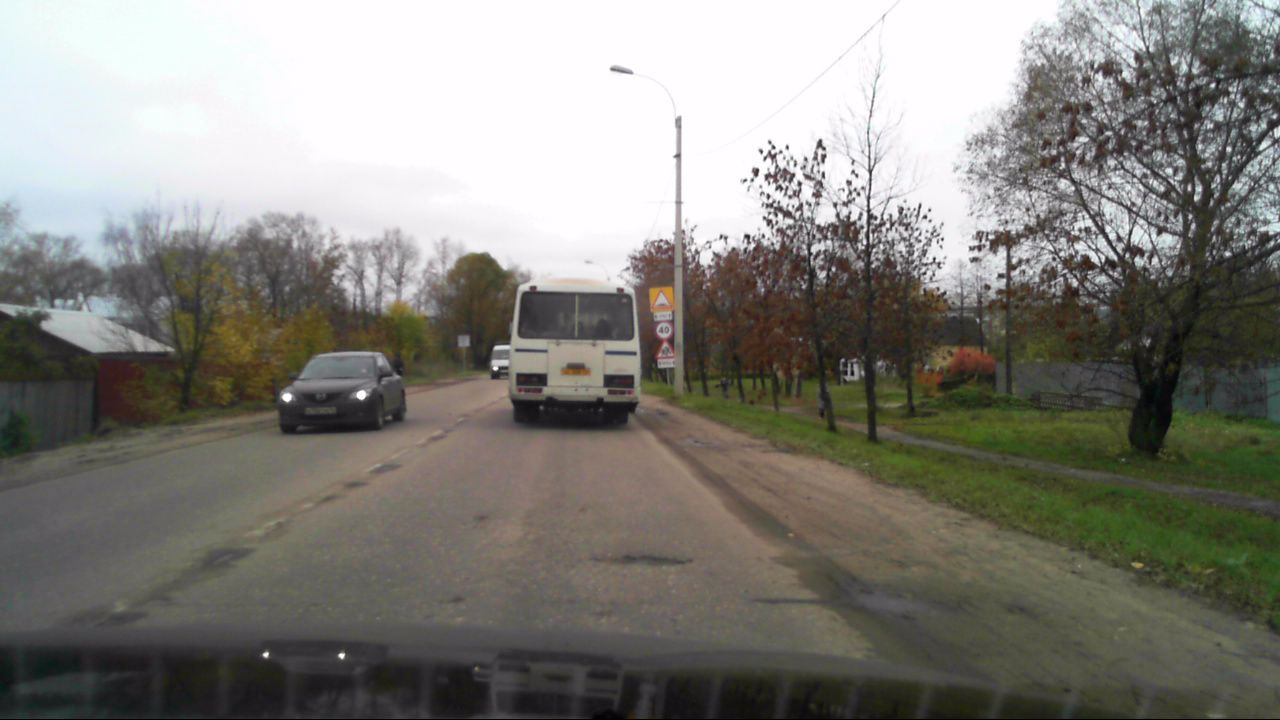speed_warning_40: (655, 322, 671, 340)
